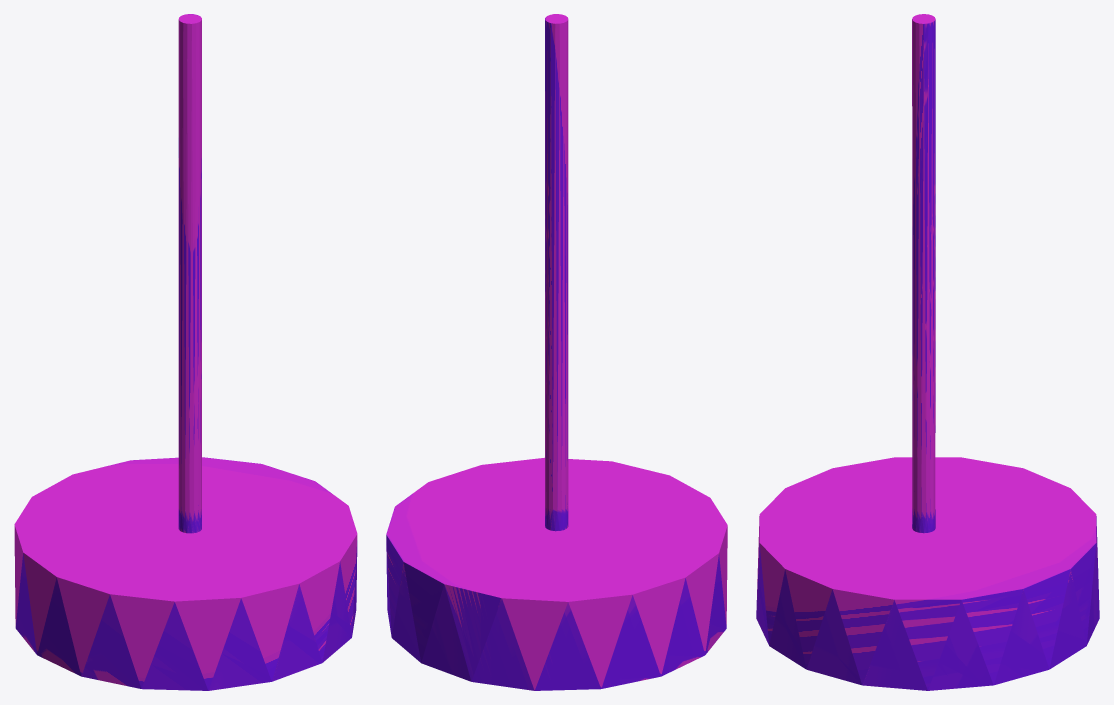
Rendered from plesisce.glb.
3 views of the same model, side by side, from view 1: azimuth 30°, elevation 25°; view 2: azimuth 150°, elevation 25°; view 3: azimuth 270°, elevation 25° (orthographic).
Visible parts, largest first — view 1: Cube; view 2: Cube; view 3: Cube.
Part boxes in pixels (left/top/right/bottom): Cube: left=14, top=14, right=357, bottom=690; Cube: left=386, top=14, right=727, bottom=690; Cube: left=756, top=14, right=1099, bottom=690.
Bounding box in the file's own units: 2.06 × 3.98 × 2.06.
Materials: 1 (1 with a texture image).
